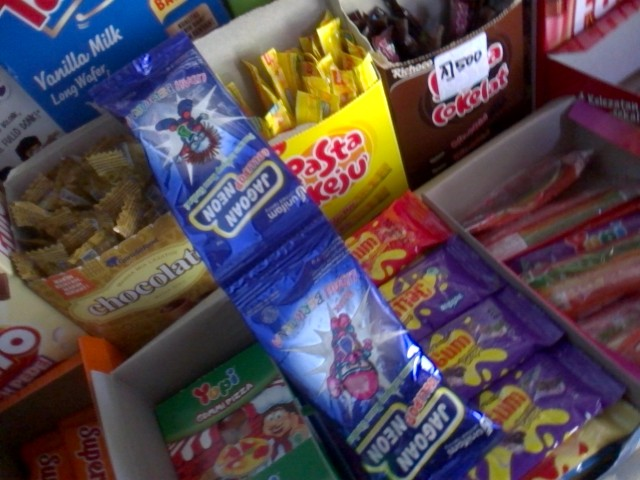jagoan neon: (234, 218, 501, 477), (88, 31, 326, 295)
